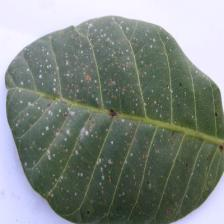red rust: (4, 14, 224, 224)
